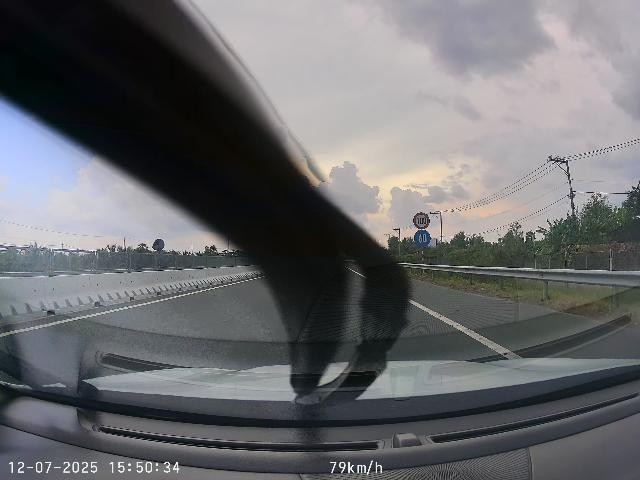127-toc-do-toi-da-100: (413, 212, 430, 229)
306-toc-do-toi-thieu-60: (414, 230, 431, 246)
